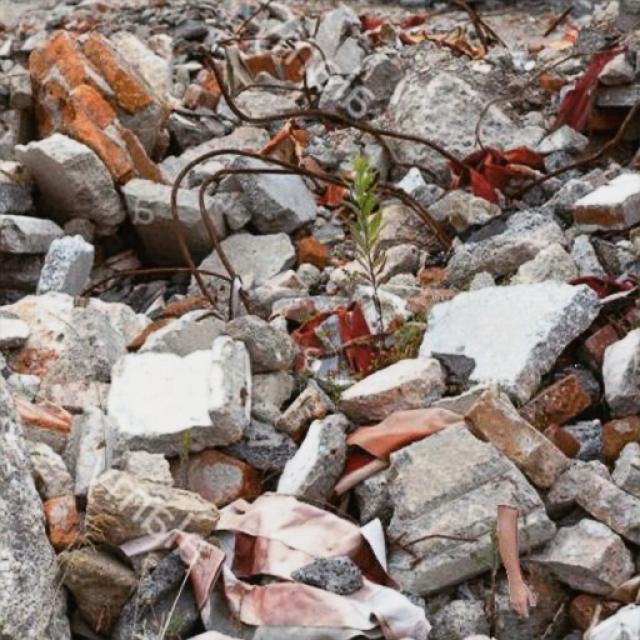Person in Rubble: (497, 504, 535, 618)
